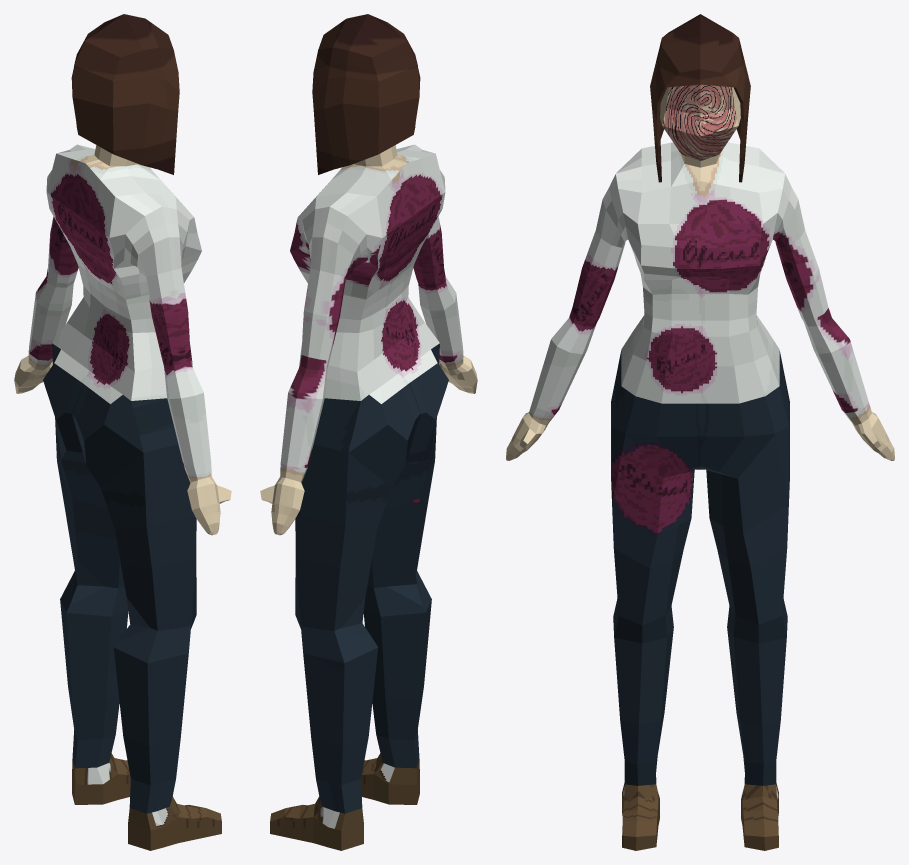
Rendered from Corpo.fbx.
3 views of the same model, side by side, from view 1: azimuth 30°, elevation 25°; view 2: azimuth 150°, elevation 25°; view 3: azimuth 270°, elevation 25° (orthographic).
Parts seen in each view (by area): view 1: Cube, Cube.003; view 2: Cube, Cube.003; view 3: Cube, Cube.003, Cube.004.
Boxes of the visible parts, bbox=[...] form: Cube: bbox=[14, 144, 231, 850]; Cube.003: bbox=[71, 14, 179, 174]; Cube: bbox=[260, 144, 477, 850]; Cube.003: bbox=[312, 14, 420, 174]; Cube: bbox=[506, 142, 894, 850]; Cube.003: bbox=[650, 14, 750, 182]; Cube.004: bbox=[662, 84, 738, 161].
Bounding box in the file's own units: 85.04 × 553 × 242.
3 materials, 3 textured.
